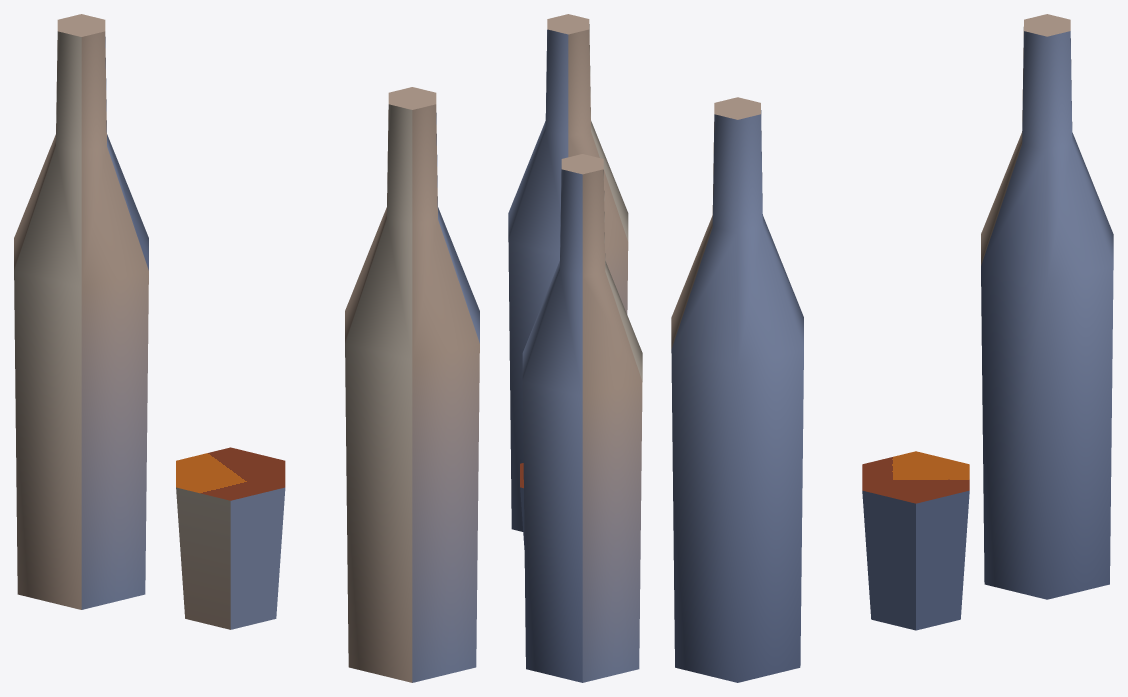
Rendered from wprop.bottles.glb.
3 views of the same model, side by side, from view 1: azimuth 30°, elevation 25°; view 2: azimuth 150°, elevation 25°; view 3: azimuth 270°, elevation 25° (orthographic). The views are drawn at different scales.
Visible parts, largest first — view 1: kit_bottles, kit_glasses; view 2: kit_bottles, kit_glasses; view 3: kit_bottles, kit_glasses.
Part boxes in pixels (x1,y1,x2,y2): kit_bottles: [14, 14, 479, 682]; kit_glasses: [176, 447, 285, 629]; kit_bottles: [508, 14, 642, 682]; kit_glasses: [520, 463, 524, 549]; kit_bottles: [671, 14, 1113, 682]; kit_glasses: [862, 451, 969, 630].
Size of the model in its own units: 0.1692 by 0.29 by 0.2137.
2 materials, 1 textured.
